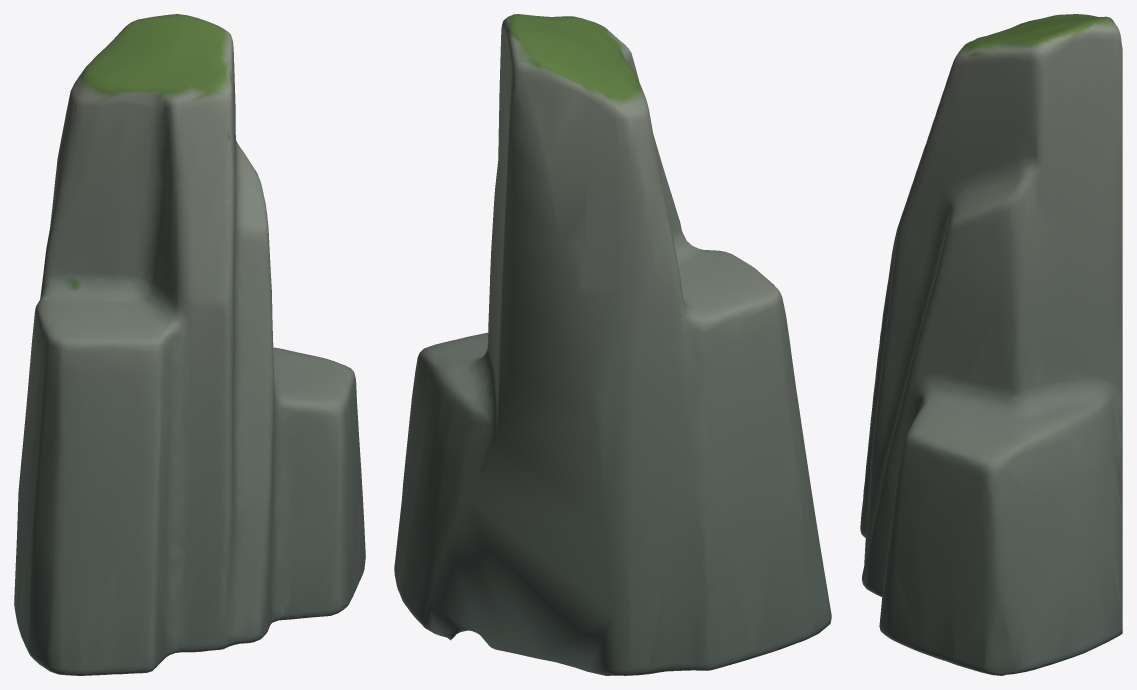
File: clay-buttress.glb
3 renders of one model, left to right at view 1: azimuth 30°, elevation 25°; view 2: azimuth 150°, elevation 25°; view 3: azimuth 270°, elevation 25°, orthographic. The views are drawn at different scales.
Parts seen in each view (by area): view 1: clay-buttress_LOD0; view 2: clay-buttress_LOD0; view 3: clay-buttress_LOD0.
Part boxes in pixels (x1,y1,x2,y2): clay-buttress_LOD0: [14, 14, 365, 675]; clay-buttress_LOD0: [394, 14, 831, 675]; clay-buttress_LOD0: [860, 14, 1122, 675].
Size of what is drawn, in the model's own units: 11.97 by 17.98 by 7.37.
